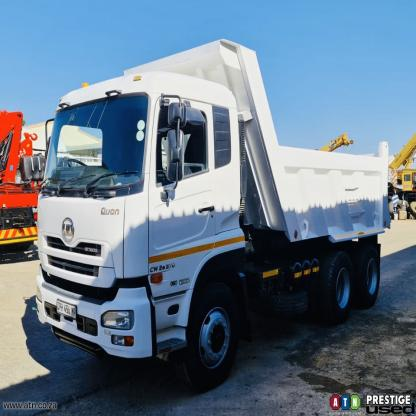dump_truck: (29, 36, 383, 384)
